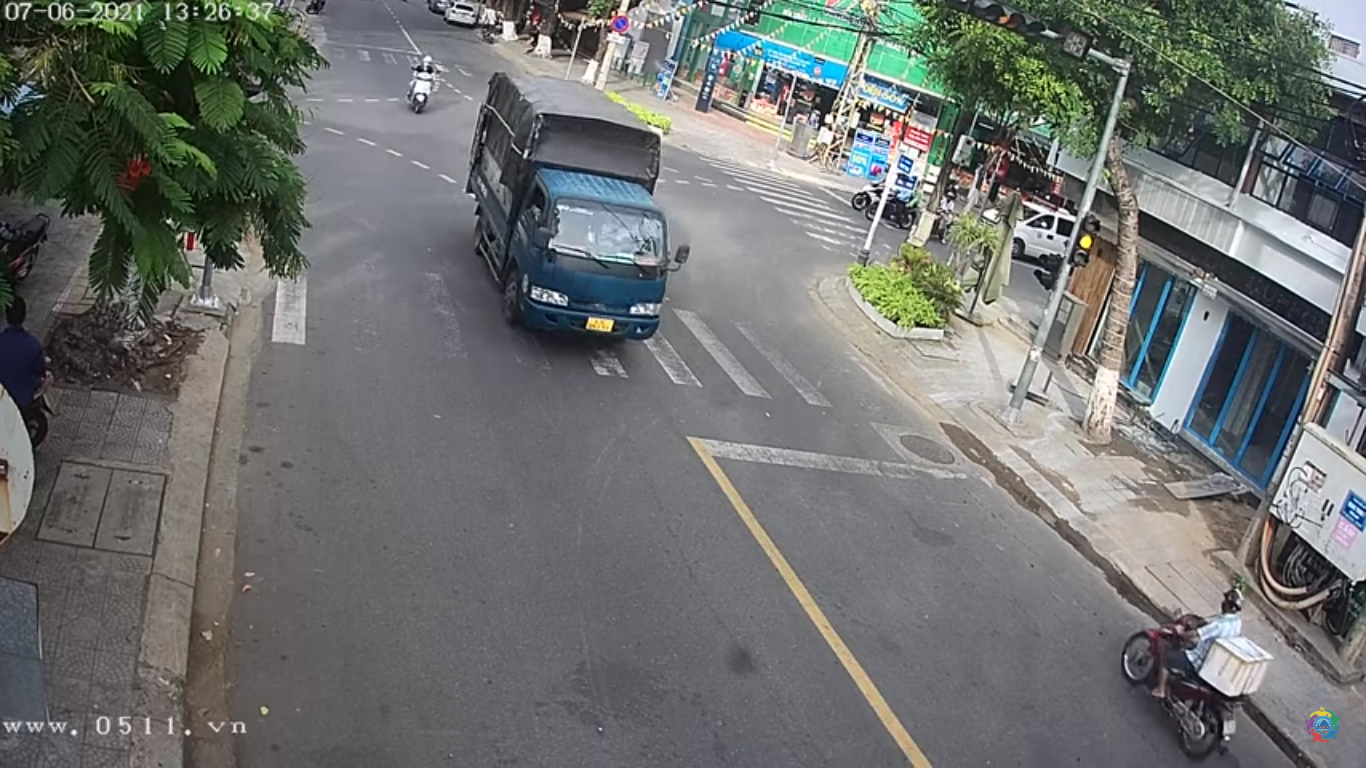truck: (461, 63, 685, 343)
